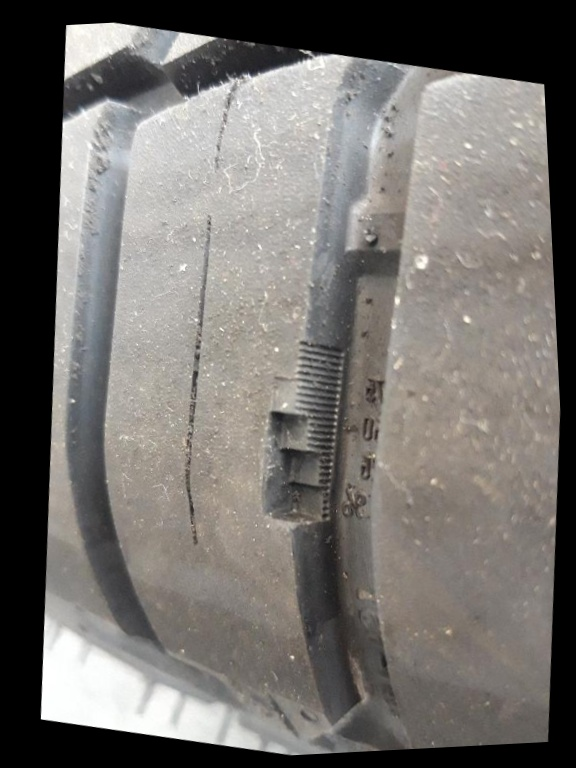temoin:75: (244, 359, 358, 549)
